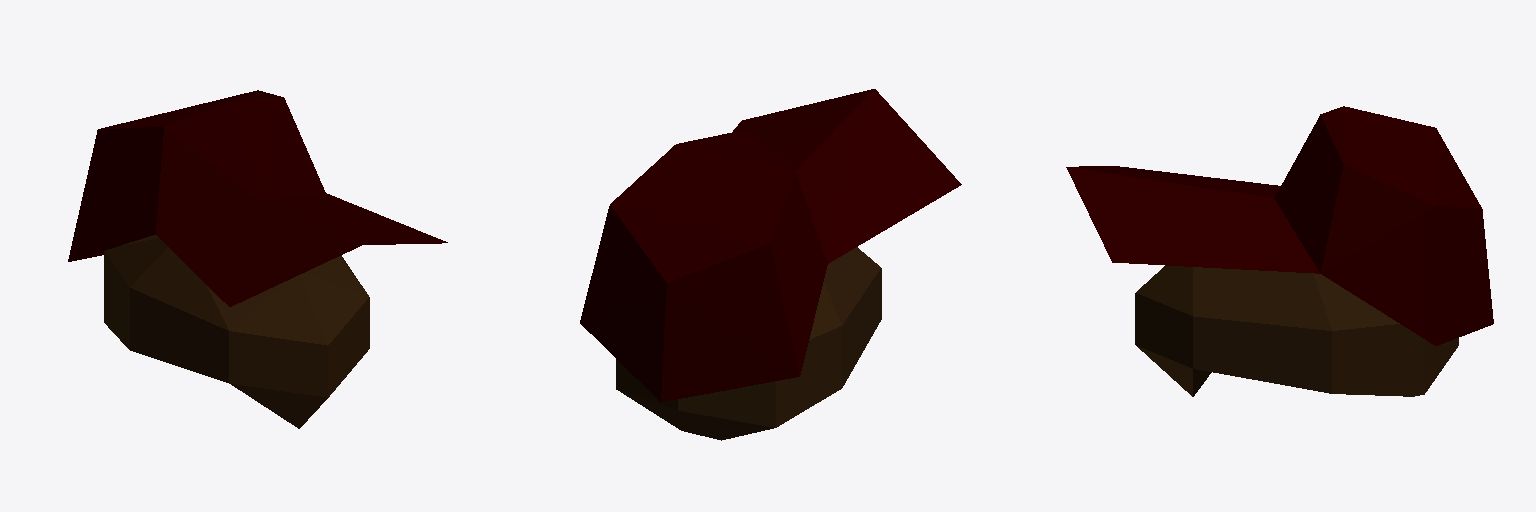
File: AntGuyHead4.obj
3 renders of one model, left to right at view 1: azimuth 30°, elevation 25°; view 2: azimuth 150°, elevation 25°; view 3: azimuth 270°, elevation 25°, orthographic.
Parts seen in each view (by area): view 1: body; view 2: body; view 3: body.
Boxes of the visible parts, box(x1,y1,x2,y2) form: body: box(68, 90, 447, 428); body: box(580, 89, 961, 440); body: box(1066, 106, 1493, 396).
Size of the model in its own units: 0.2229 by 0.2736 by 0.3749.